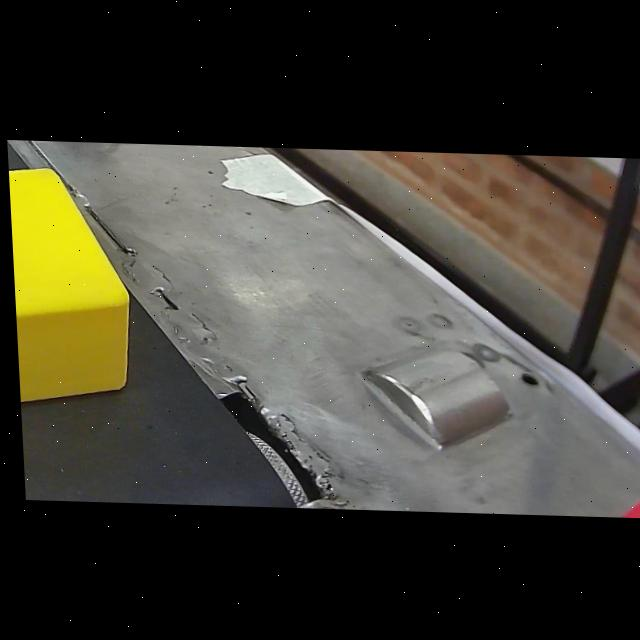yellowBox: (6, 158, 139, 421)
